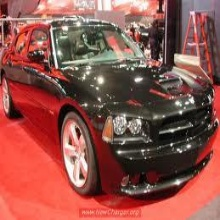no damage: (1, 16, 220, 197)
